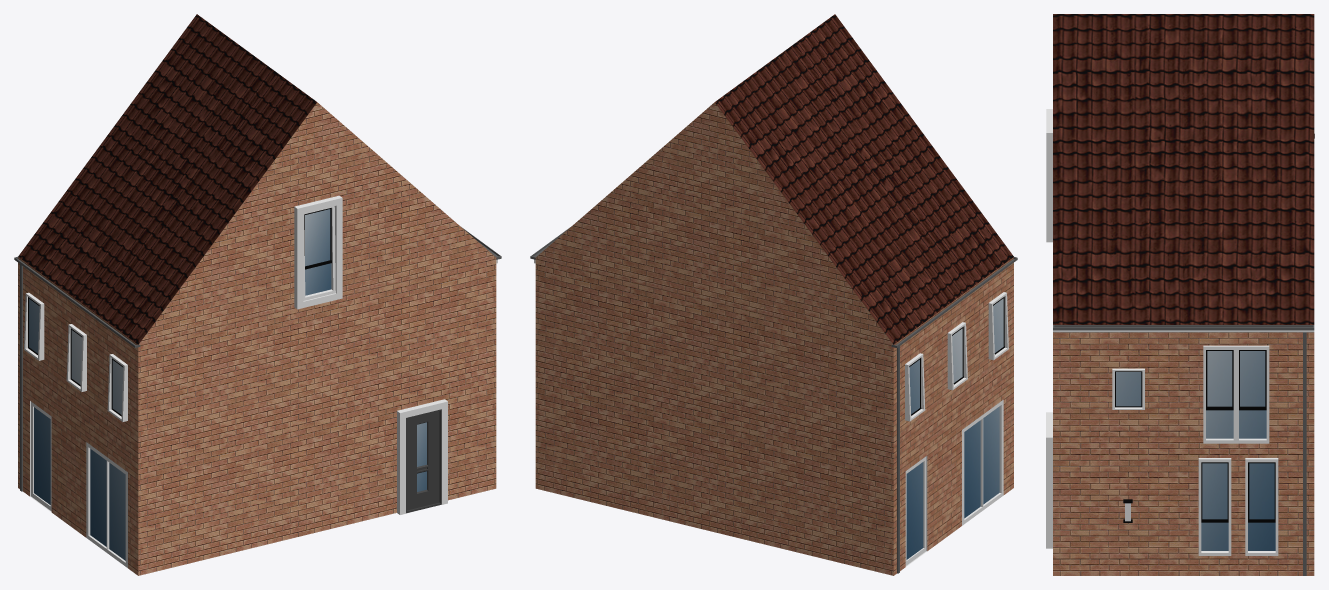
The model's file is Woning_39723_B2Z1.fbx.
3 renders of one model, left to right at view 1: azimuth 30°, elevation 25°; view 2: azimuth 150°, elevation 25°; view 3: azimuth 270°, elevation 25°, orthographic. The views are drawn at different scales.
Parts seen in each view (by area): view 1: Woning_39723_B2Z1; view 2: Woning_39723_B2Z1; view 3: Woning_39723_B2Z1.
Boxes of the visible parts, <box> form: Woning_39723_B2Z1: <box>14,14,501,575</box>; Woning_39723_B2Z1: <box>530,14,1017,575</box>; Woning_39723_B2Z1: <box>1046,14,1314,575</box>.
Bounding box in the file's own units: 9.71 × 10.7 × 5.58.
